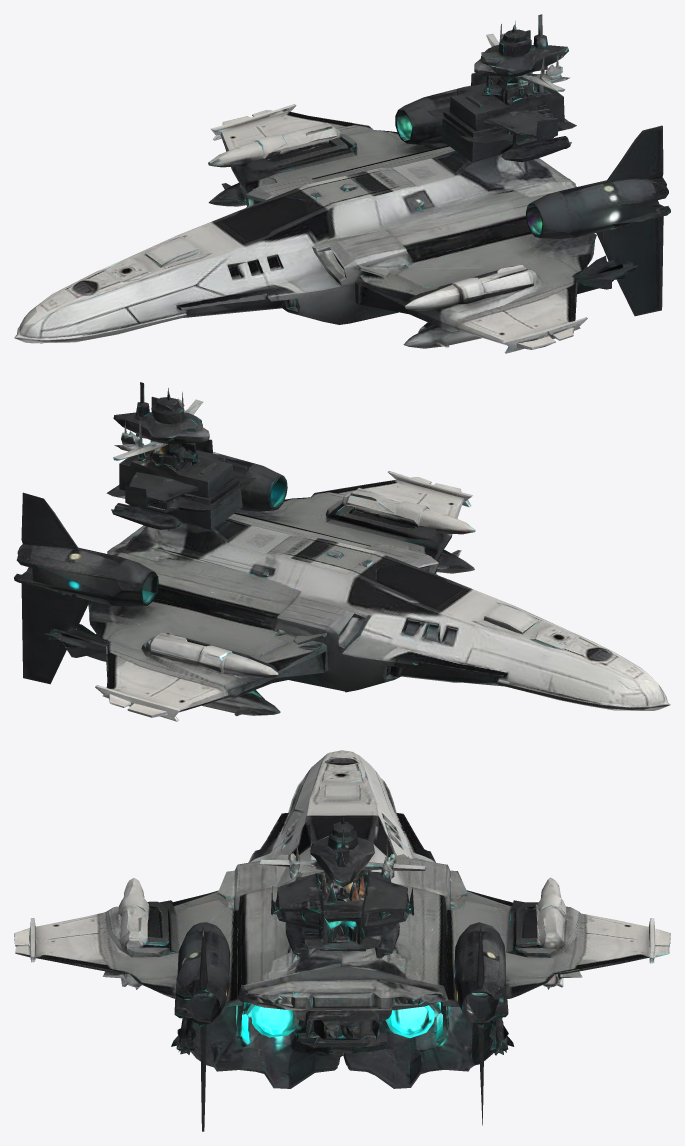
Rendered from vessel-nest.glb.
3 renders of one model, top to bottom at view 1: azimuth 30°, elevation 25°; view 2: azimuth 150°, elevation 25°; view 3: azimuth 270°, elevation 25°, orthographic. The views are drawn at different scales.
Bounding box in the file's own units: 1.9 × 0.8084 × 1.74.
Materials: 1 (1 with a texture image).
